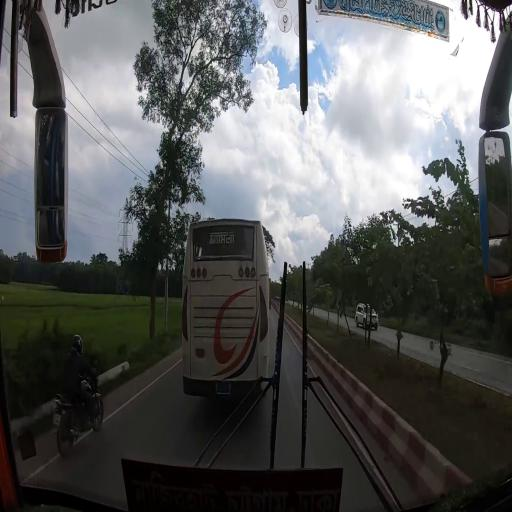bus: (180, 218, 273, 398)
motorbike: (57, 377, 109, 455)
suv: (356, 303, 379, 331)
